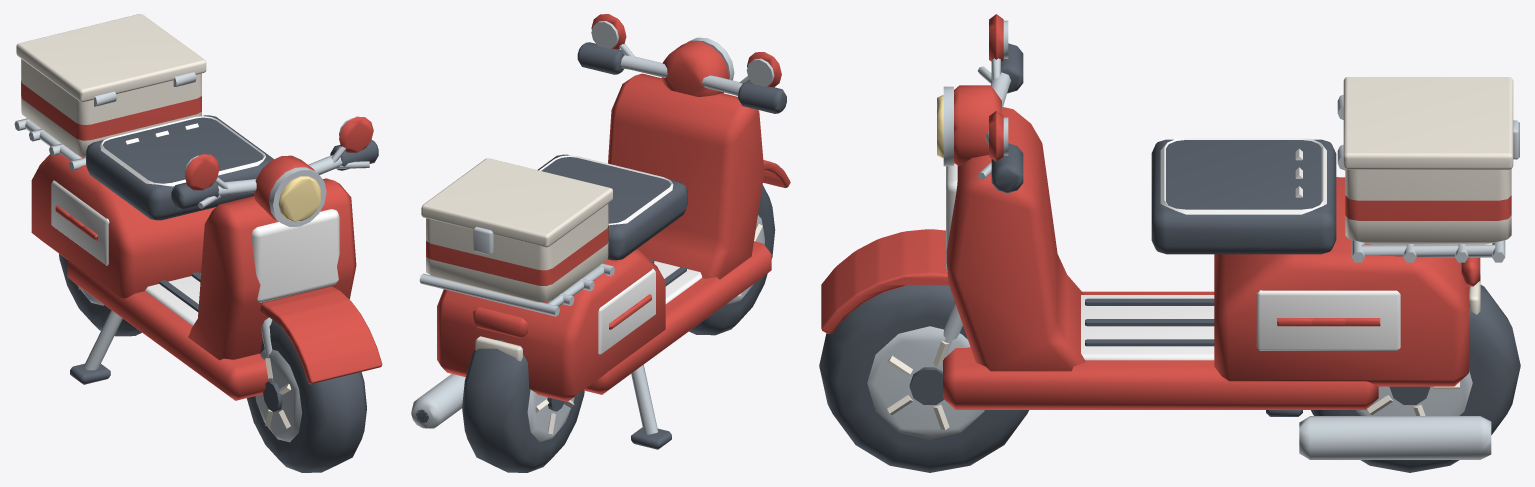
Rendered from fine_town_scooter.glb.
3 renders of one model, left to right at view 1: azimuth 30°, elevation 25°; view 2: azimuth 150°, elevation 25°; view 3: azimuth 270°, elevation 25°, orthographic. The views are drawn at different scales.
Visible parts, largest first — view 1: fine_town_scooter_structure; view 2: fine_town_scooter_structure; view 3: fine_town_scooter_structure.
Part boxes in pixels (x1,y1,x2,y2): fine_town_scooter_structure: [14, 14, 382, 472]; fine_town_scooter_structure: [411, 14, 790, 472]; fine_town_scooter_structure: [819, 14, 1520, 472].
Size of the model in its own units: 0.8 by 1.2 by 1.9.
